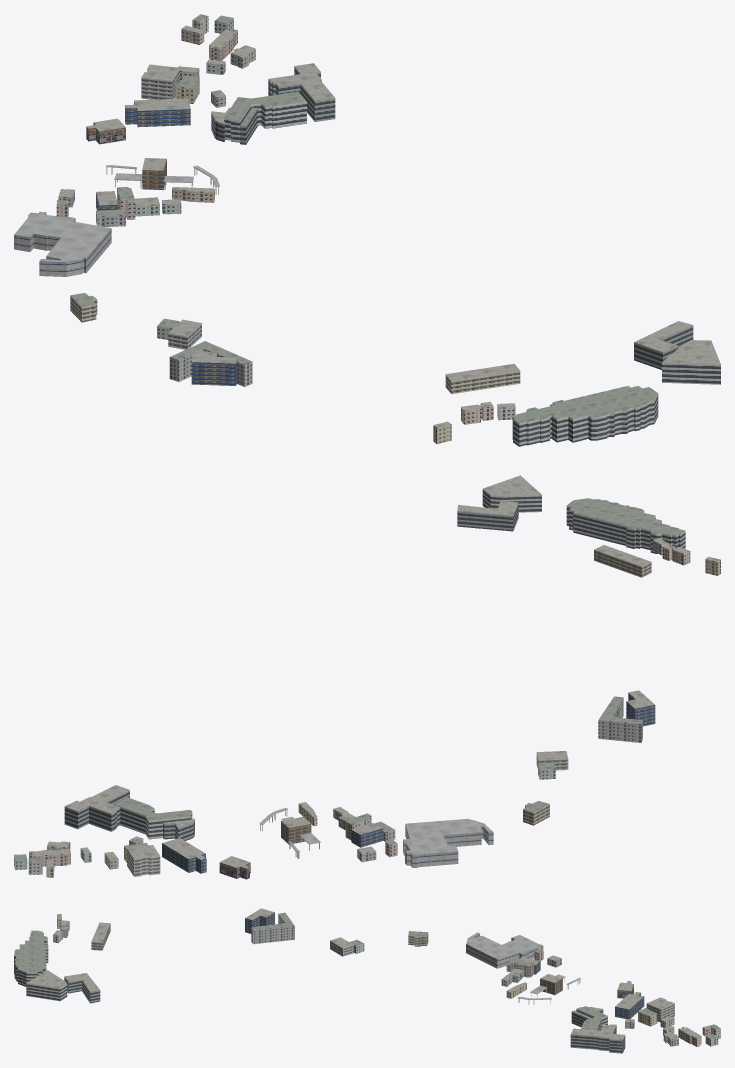
File: ArahaTown_Block_E03072_N00000.gltf
The picture shows the model from 3 angles, top to bottom: view 1: azimuth 30°, elevation 25°; view 2: azimuth 150°, elevation 25°; view 3: azimuth 270°, elevation 25°; orthographic projection. The views are drawn at different scales.
Parts seen in each view (by area): view 1: ArahaTown_Block_E03072_N00000; view 2: ArahaTown_Block_E03072_N00000; view 3: ArahaTown_Block_E03072_N00000.
Part boxes in pixels (x1,y1,x2,y2): ArahaTown_Block_E03072_N00000: (14, 14, 720, 446); ArahaTown_Block_E03072_N00000: (14, 475, 720, 879); ArahaTown_Block_E03072_N00000: (14, 908, 720, 1053).
Bounding box in the file's own units: 319 × 72.16 × 751.
Materials: 17 (16 with a texture image).
